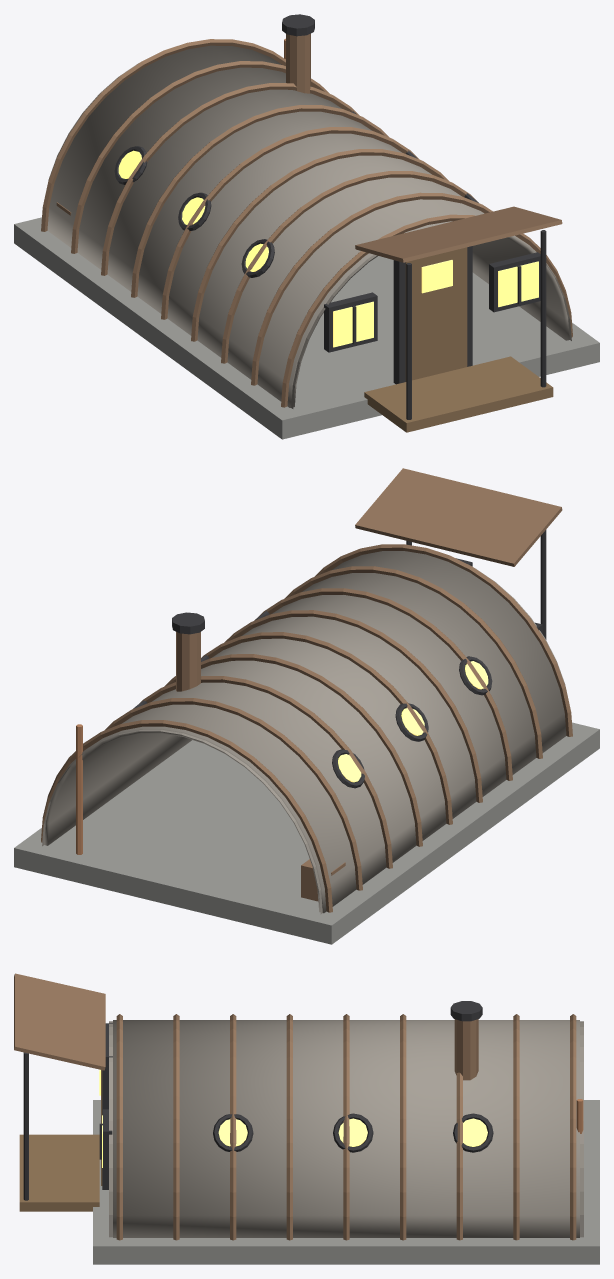
Rendered from quonset.glb.
3 views of the same model, one above another, from view 1: azimuth 30°, elevation 25°; view 2: azimuth 150°, elevation 25°; view 3: azimuth 270°, elevation 25° (orthographic). The views are drawn at different scales.
Parts seen in each view (by area): view 1: quonset; view 2: quonset; view 3: quonset.
Part boxes in pixels (x1=…): quonset: x1=14, y1=14, x2=599, y2=439; quonset: x1=14, y1=468, x2=599, y2=944; quonset: x1=14, y1=973, x2=599, y2=1264.
Size of the model in its own units: 5.2 by 3.46 by 8.79.
